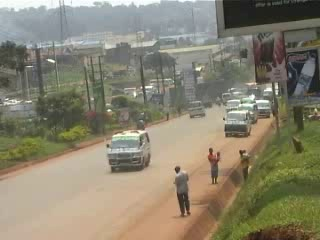Motorcycle: (137, 110, 148, 133), (212, 94, 222, 110)
